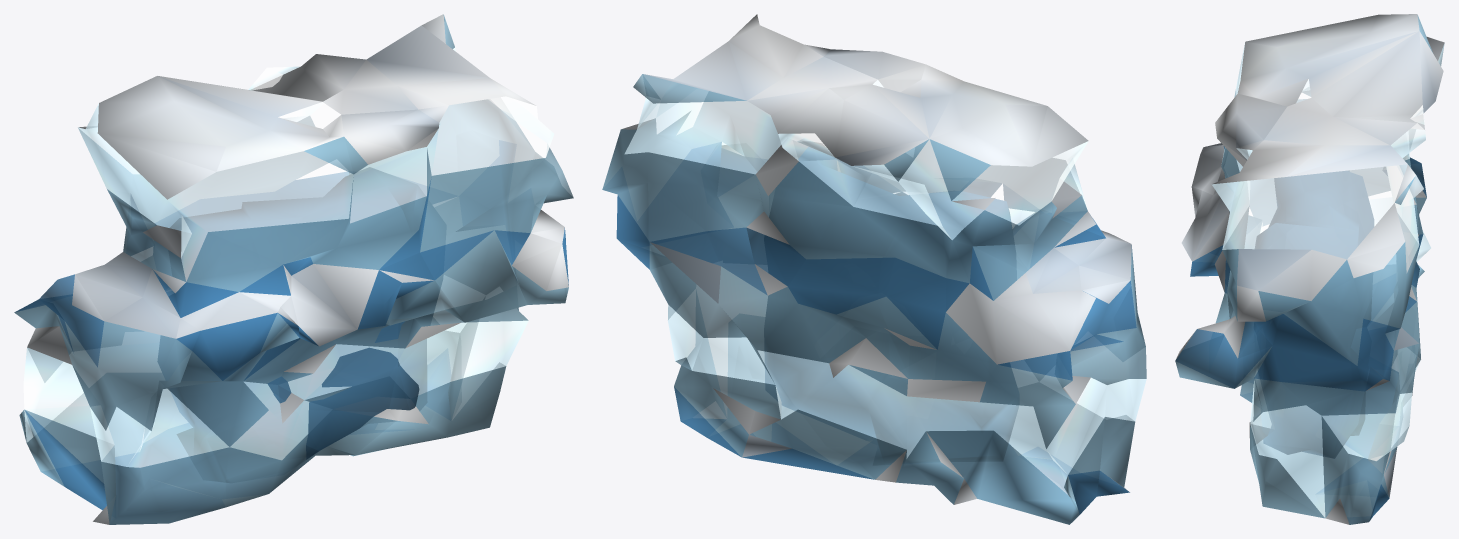
Rendered from frost_ice_cliff_a_lod2.glb.
3 views of the same model, side by side, from view 1: azimuth 30°, elevation 25°; view 2: azimuth 150°, elevation 25°; view 3: azimuth 270°, elevation 25° (orthographic). The views are drawn at different scales.
Parts seen in each view (by area): view 1: frost_ice_cliff_a.001; view 2: frost_ice_cliff_a.001; view 3: frost_ice_cliff_a.001.
Boxes of the visible parts, x1=… form: frost_ice_cliff_a.001: x1=14, y1=14, x2=573, y2=524; frost_ice_cliff_a.001: x1=602, y1=14, x2=1146, y2=524; frost_ice_cliff_a.001: x1=1175, y1=14, x2=1444, y2=524.
Size of the model in its own units: 14.54 by 11.05 by 7.21.
